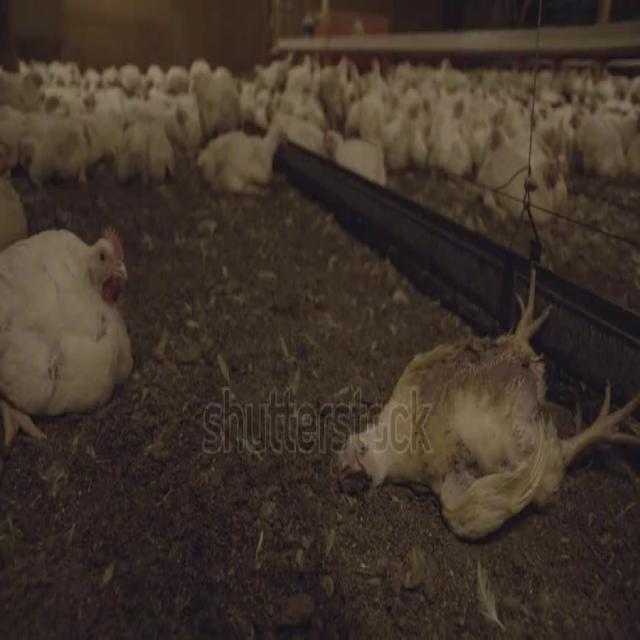injured-animals: (333, 256, 637, 547)
